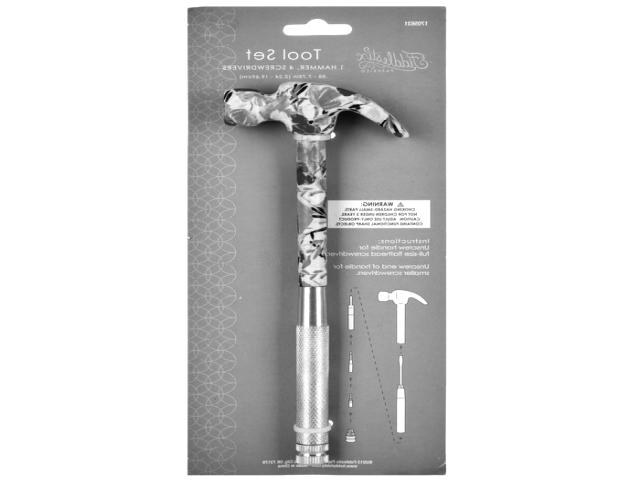Hammer: (222, 82, 409, 465), (378, 290, 428, 433)
